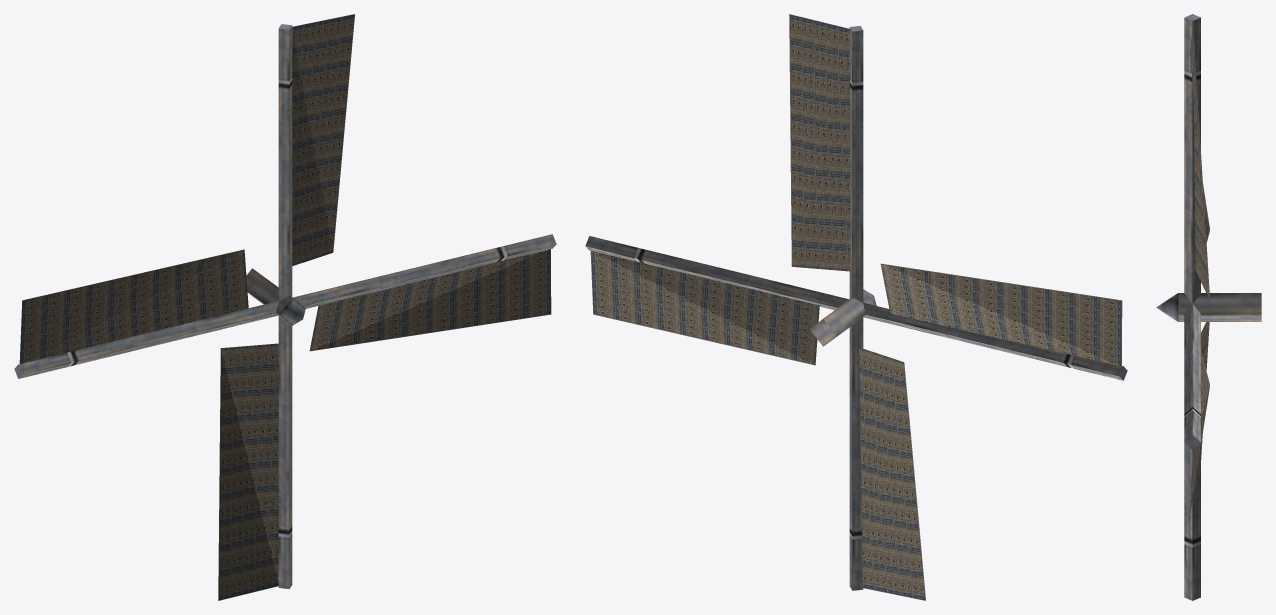
File: elice.obj
3 views of the same model, side by side, from view 1: azimuth 30°, elevation 25°; view 2: azimuth 150°, elevation 25°; view 3: azimuth 270°, elevation 25° (orthographic). The views are drawn at different scales.
Visible parts, largest first — view 1: windmill.001; view 2: windmill.001; view 3: windmill.001.
Part boxes in pixels (x1=…): windmill.001: x1=14, y1=14, x2=556, y2=600; windmill.001: x1=585, y1=14, x2=1127, y2=600; windmill.001: x1=1156, y1=14, x2=1261, y2=600.
Size of the model in its own units: 17.7 by 17.7 by 2.92.
1 material, 1 textured.
